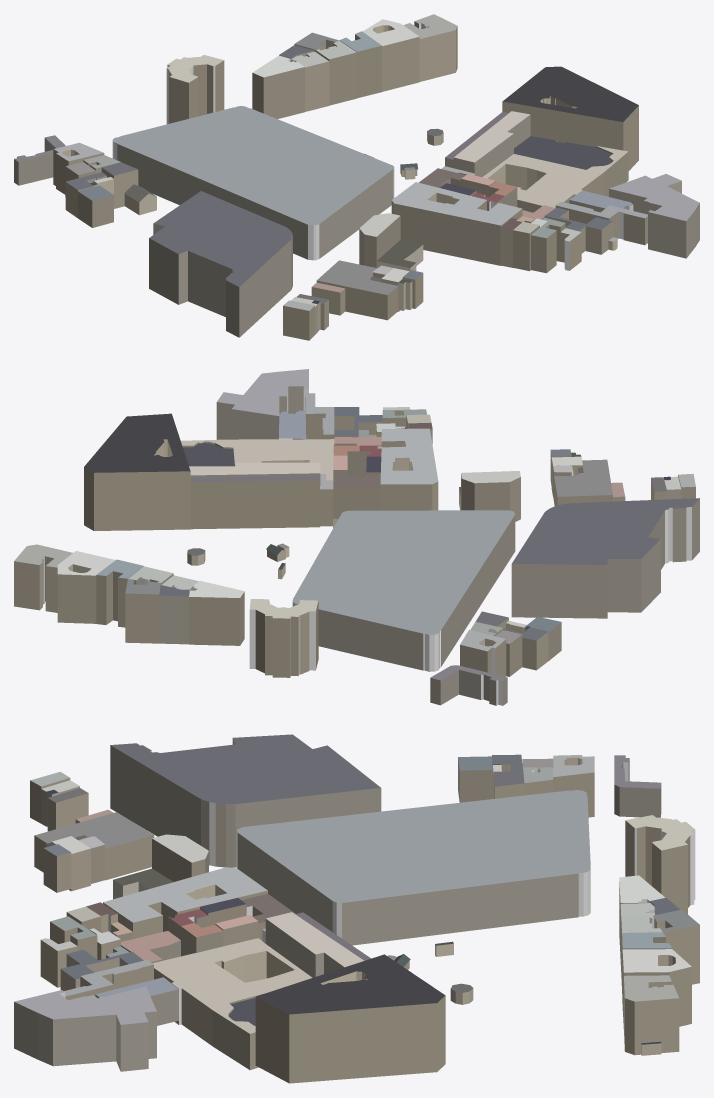
3 views of the same model, one above another, from view 1: azimuth 30°, elevation 25°; view 2: azimuth 150°, elevation 25°; view 3: azimuth 270°, elevation 25° (orthographic). The views are drawn at different scales.
Parts seen in each view (by area): view 1: tuile; view 2: tuile; view 3: tuile.
Part boxes in pixels (<box>): tuile: <box>14,14,699,340</box>; tuile: <box>14,369,699,705</box>; tuile: <box>14,734,699,1083</box>.
Size of the model in its own units: 281 by 36.39 by 272.
